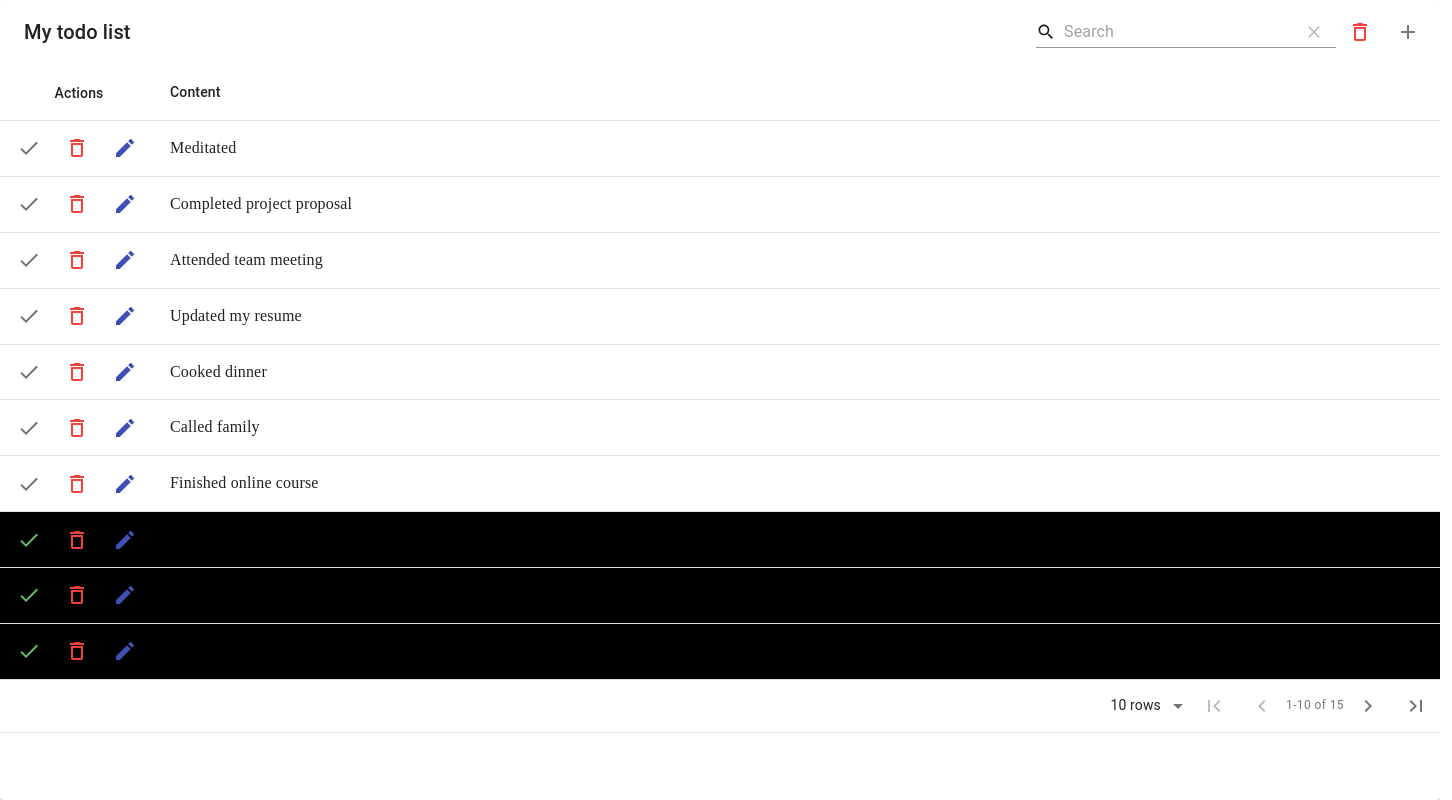
Should cover all functionalities from the todo list app in desktop environment › Should create a new item and add it on top of the list
Click the icon with test id "btn-add" at (1408, 32), box [1396,20,1420,44]
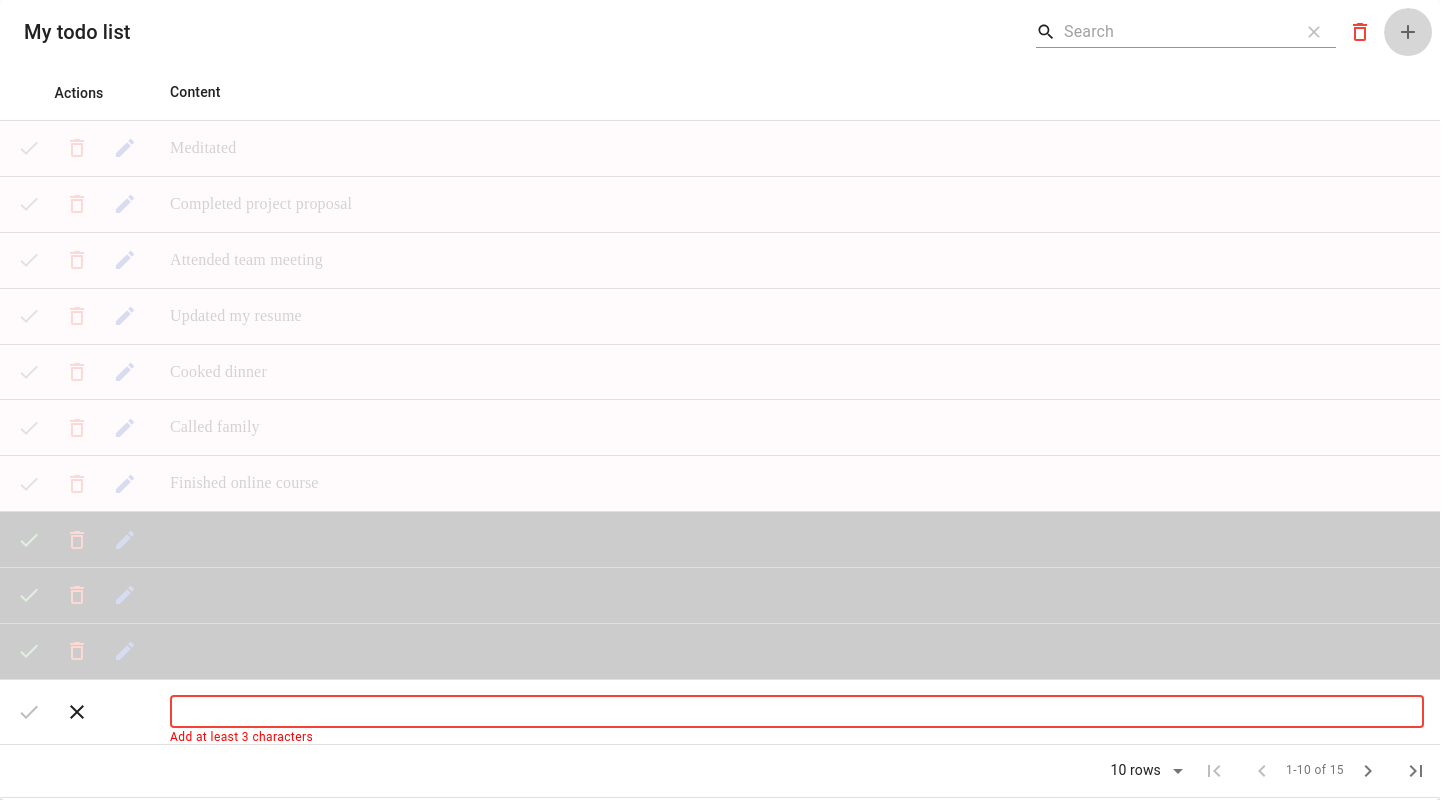
Type "new task" into the element with test id "input-create-task" at (797, 712), box [170,696,1424,728]
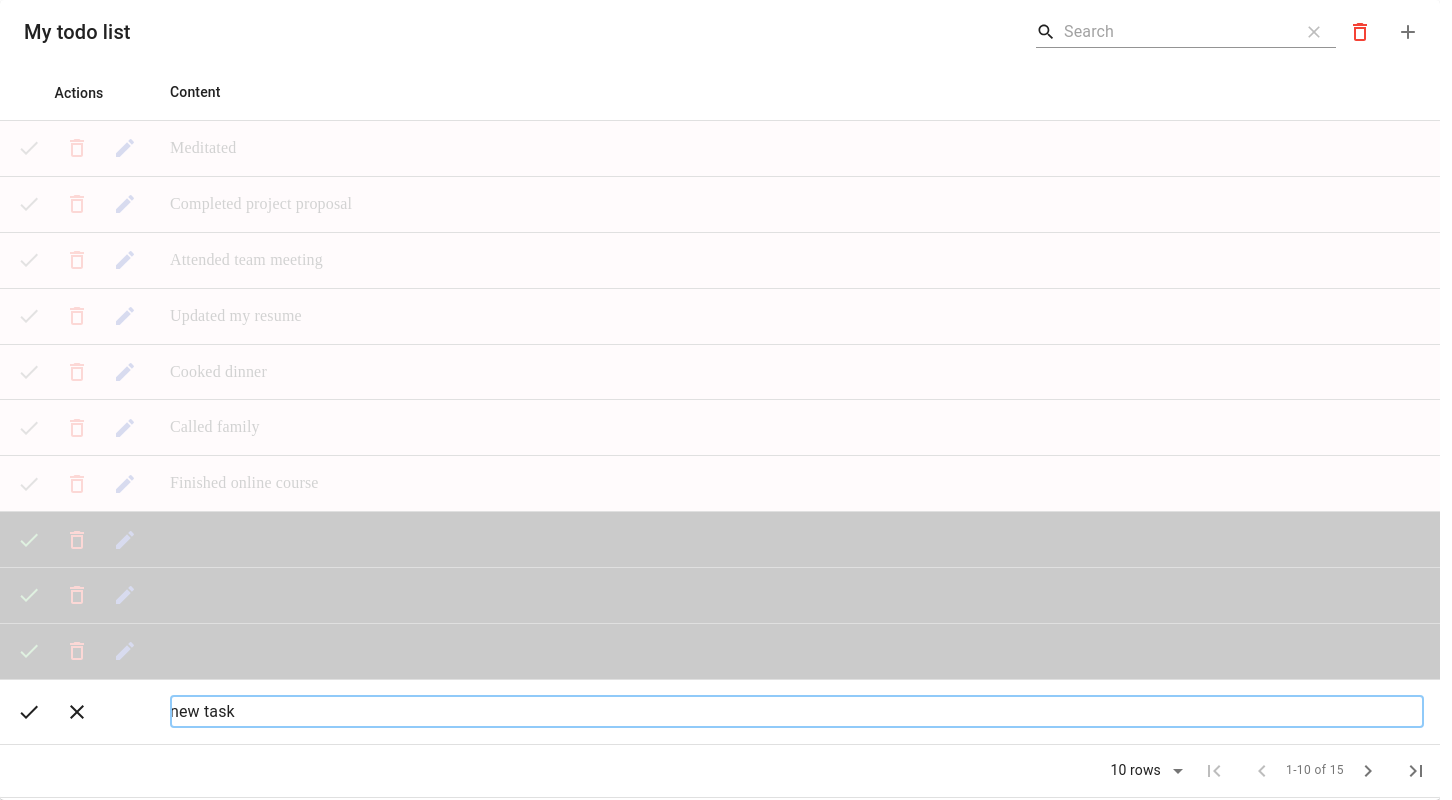
Click the icon with test id "btn-check" at (29, 712), box [17,700,41,724]
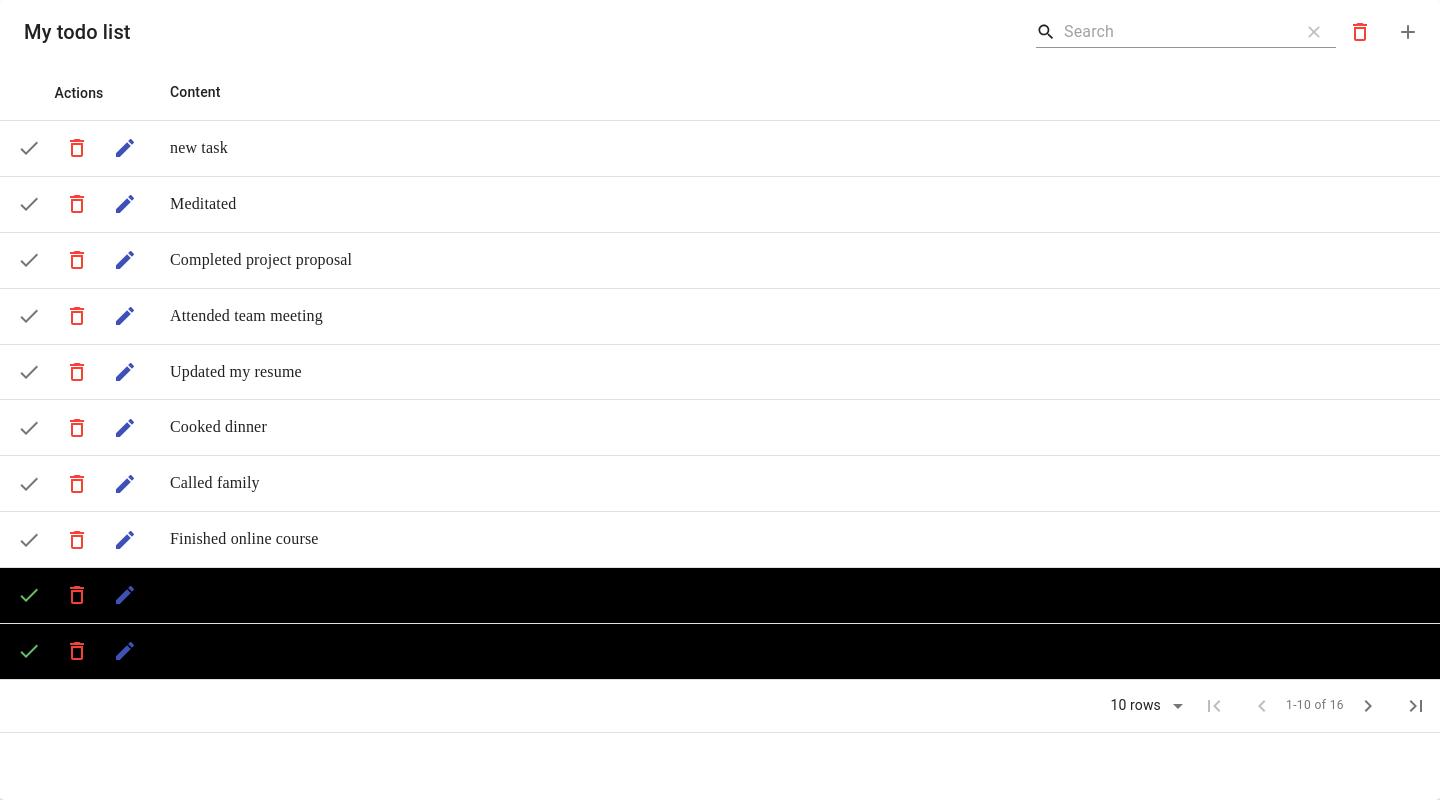
Now the cell "new task" is shown, box [154,120,1440,176]
